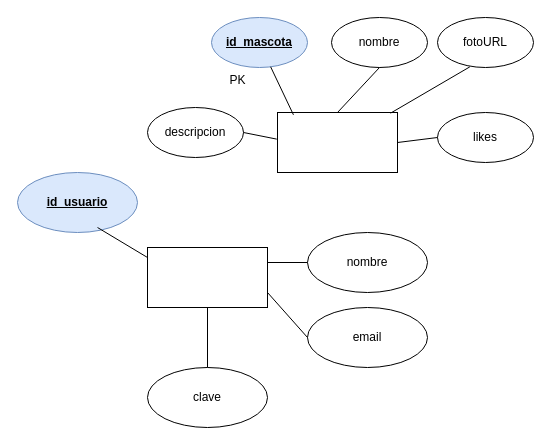
The diagram is 551 pixels wide and 445 high, and some of its shapes have lost their labels. The box of each missing label's shape, as (x1, y1, x2, y2) in pixels:
Mascotas: (276, 112, 398, 172)
Usuarios: (146, 246, 268, 308)
